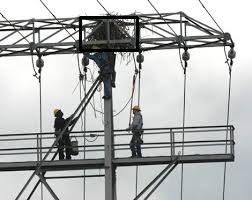bird-nest: (90, 18, 131, 45)
